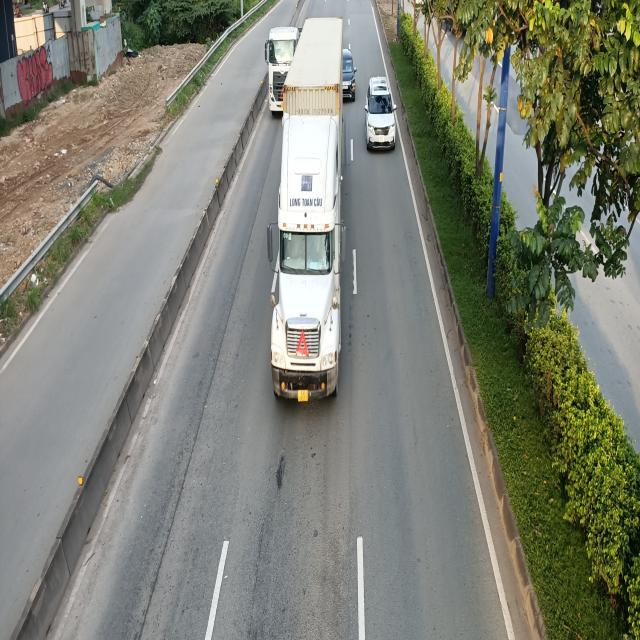car: (362, 78, 395, 153)
container: (268, 15, 345, 401), (265, 28, 301, 118)
